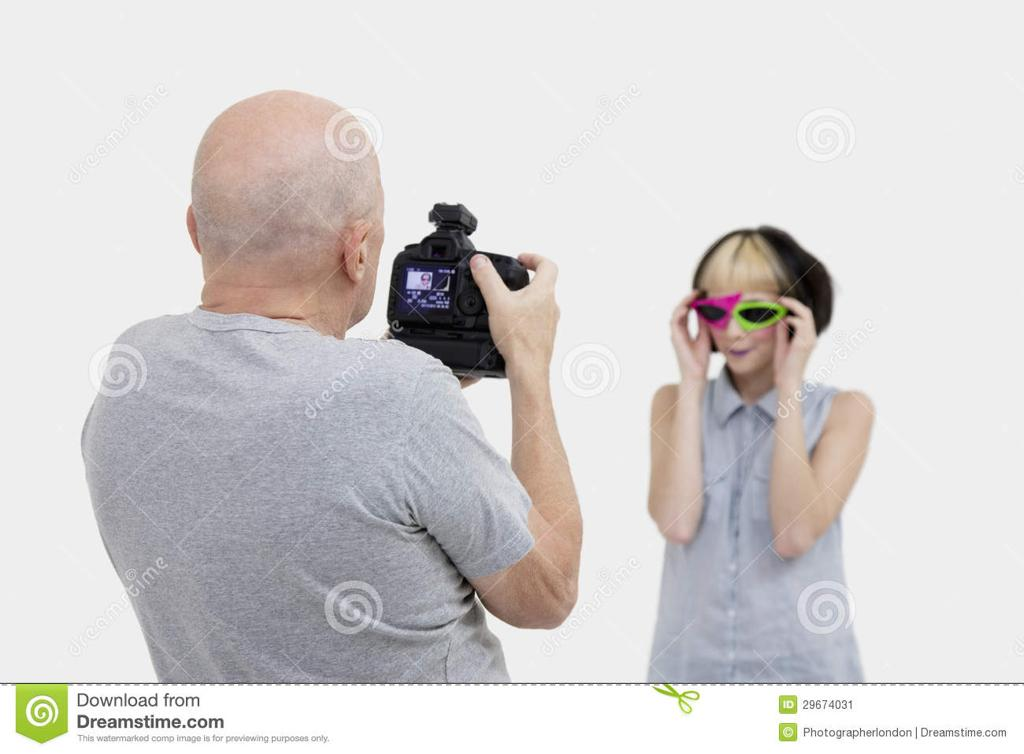face: (704, 242, 782, 378)
